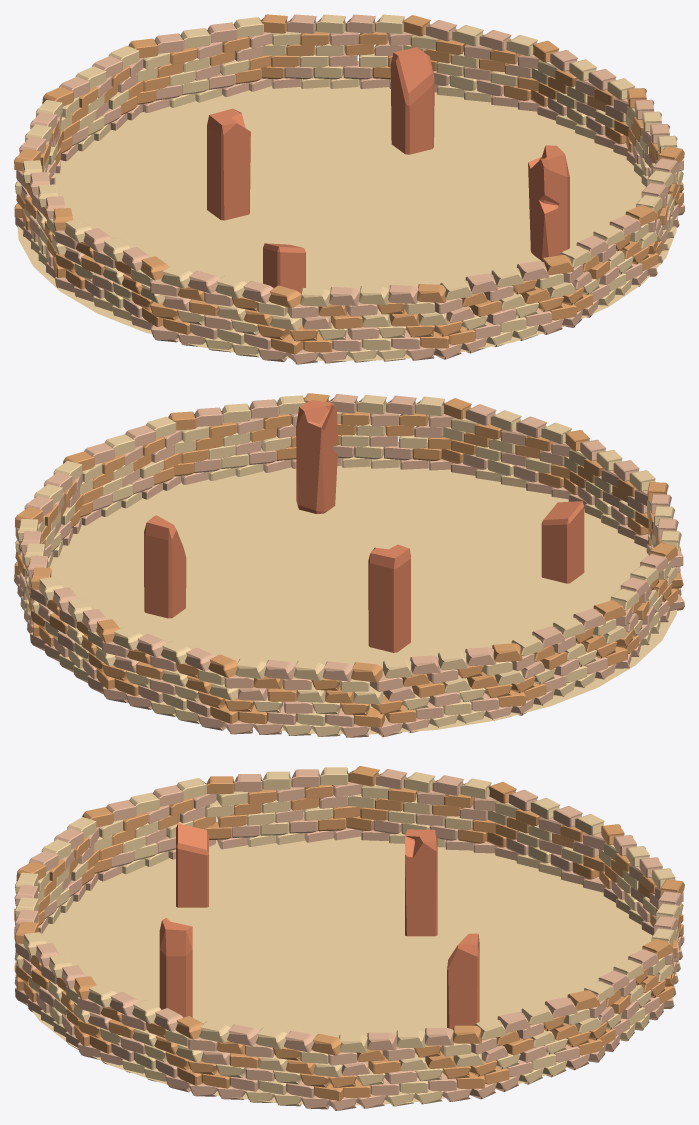
Rendered from ArenaFirstDraft.fbx.
The picture shows the model from 3 angles, top to bottom: view 1: azimuth 30°, elevation 25°; view 2: azimuth 150°, elevation 25°; view 3: azimuth 270°, elevation 25°; orthographic projection.
Visible parts, largest first — view 1: Circle, Cube.019, Cube.018, Cube.004, Cube.011, Cube.012, Cube.009, Cube.017, Cube.008, Cube.005, Cube.014, Cube.001 (+7 smaller); view 2: Circle, Cube.014, Cube.015, Cube.012, Cube.004, Cube.006, Cube.005, Cube.016, Cube.007, Cube.019, Cube.011, Cube.017 (+7 smaller); view 3: Circle, Cube.008, Cube.007, Cube.017, Cube.016, Cube.009, Cube.006, Cube.015, Cube.018, Cube.011, Cube.005, Cube.019 (+7 smaller).
Part boxes in pixels (x1,y1,x2,y2): Circle: [17, 84, 676, 360]; Cube.019: [287, 284, 448, 364]; Cube.018: [150, 265, 303, 361]; Cube.004: [433, 255, 576, 359]; Cube.011: [261, 14, 413, 88]; Cube.012: [128, 17, 272, 112]; Cube.009: [403, 15, 540, 111]; Cube.017: [55, 218, 168, 330]; Cube.008: [530, 40, 635, 156]; Cube.005: [560, 205, 658, 327]; Cube.014: [42, 45, 143, 161]; Cube.001: [207, 108, 250, 220]; Circle: [49, 464, 676, 734]; Cube.014: [224, 658, 384, 737]; Cube.015: [370, 643, 525, 737]; Cube.012: [102, 627, 238, 730]; Cube.004: [441, 398, 571, 499]; Cube.006: [168, 395, 305, 484]; Cube.005: [304, 393, 453, 470]; Cube.016: [511, 600, 627, 715]; Cube.007: [63, 416, 182, 525]; Cube.019: [563, 430, 655, 547]; Cube.011: [30, 576, 119, 694]; Cube.017: [610, 542, 677, 668]; Circle: [14, 836, 652, 1105]; Cube.008: [328, 1025, 484, 1110]; Cube.007: [188, 1021, 343, 1109]; Cube.017: [203, 767, 361, 849]; Cube.016: [346, 766, 497, 853]; Cube.009: [469, 990, 602, 1099]; Cube.006: [77, 984, 203, 1092]; Cube.015: [486, 782, 605, 892]; Cube.018: [82, 778, 216, 881]; Cube.011: [584, 939, 673, 1062]; Cube.005: [15, 932, 96, 1049]; Cube.019: [16, 817, 99, 934].
Bounding box in the file's own units: 4061 × 875 × 4089.
